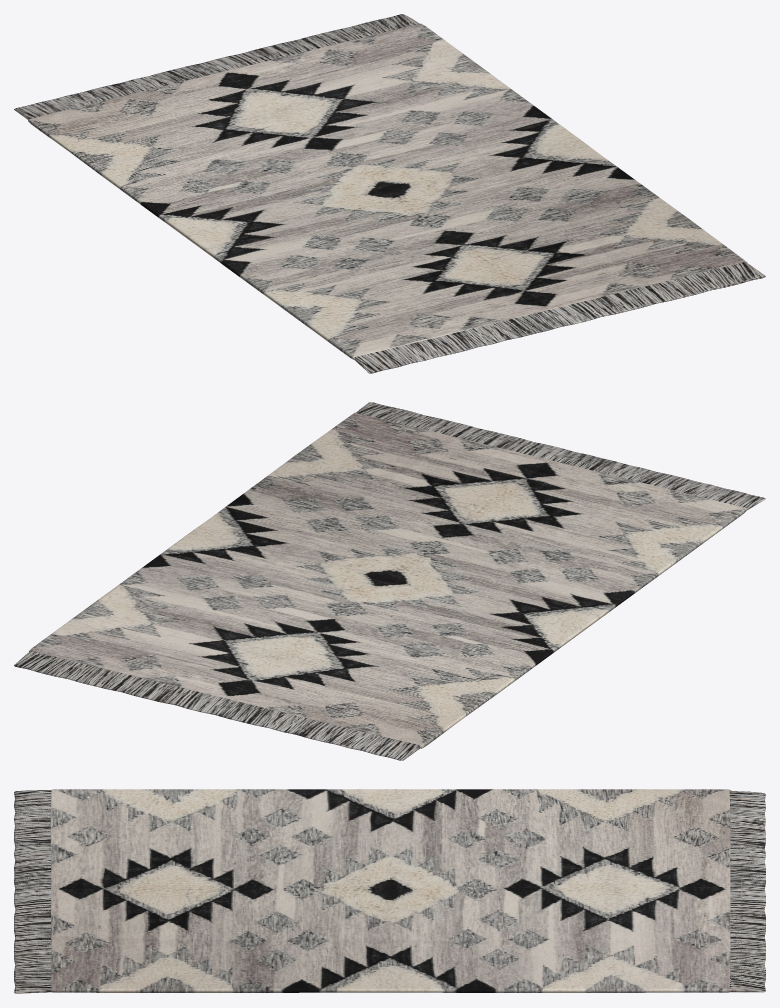
Rendered from 14 - TANNISBY Rug, flatwoven - handmadegrey black 160x230 cm.glb.
The picture shows the model from 3 angles, top to bottom: view 1: azimuth 30°, elevation 25°; view 2: azimuth 150°, elevation 25°; view 3: azimuth 270°, elevation 25°; orthographic projection. The views are drawn at different scales.
Visible parts, largest first — view 1: 70494710_rug_flatwoven; view 2: 70494710_rug_flatwoven; view 3: 70494710_rug_flatwoven.
Boxes of the visible parts, box(x1,y1,x2,y2) form: 70494710_rug_flatwoven: box(14, 14, 765, 373); 70494710_rug_flatwoven: box(14, 402, 765, 760); 70494710_rug_flatwoven: box(14, 789, 765, 993).
Bounding box in the file's own units: 1.6 × 0.0144 × 2.51.
Materials: 1 (1 with a texture image).
